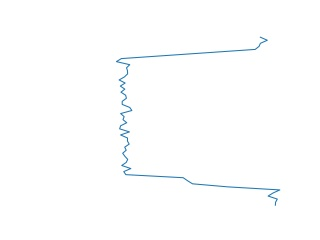distributaryChannelFill: (112, 37, 283, 207)
